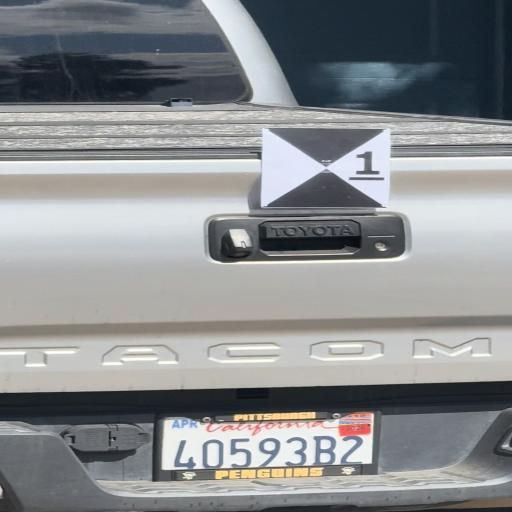target1: (263, 128, 386, 206)
